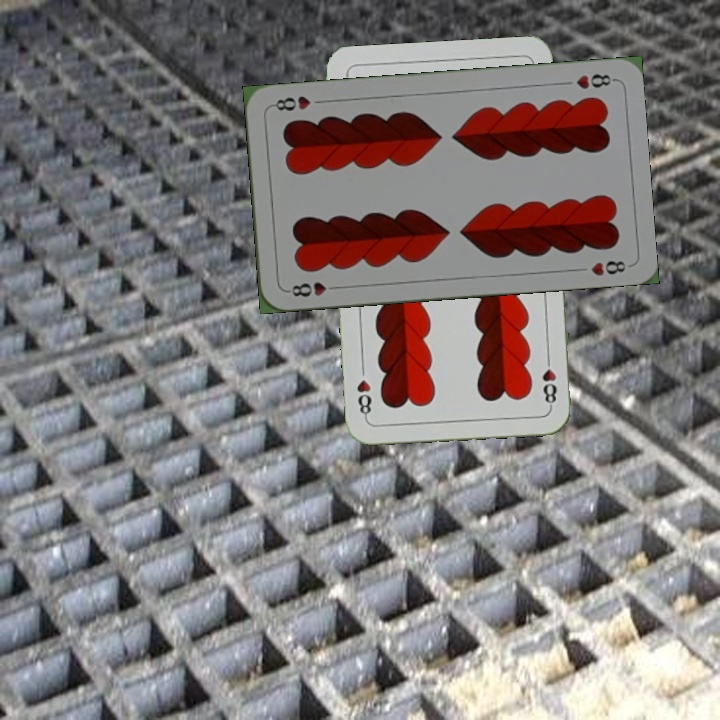H8: (538, 350, 559, 409), (283, 278, 342, 299), (572, 70, 617, 92)
